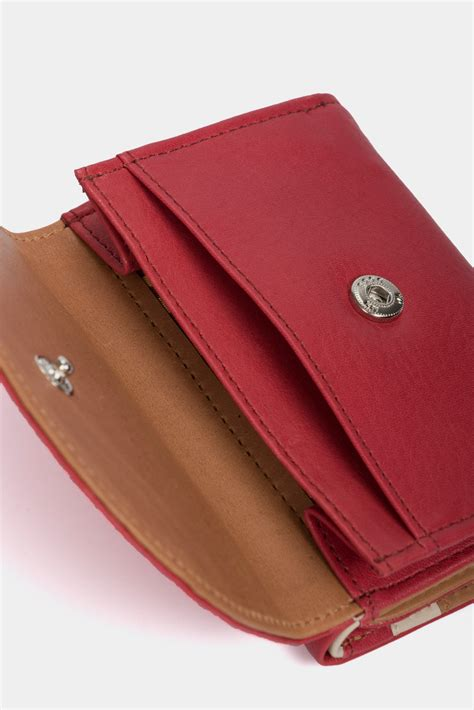cuero: (3, 91, 474, 666)
